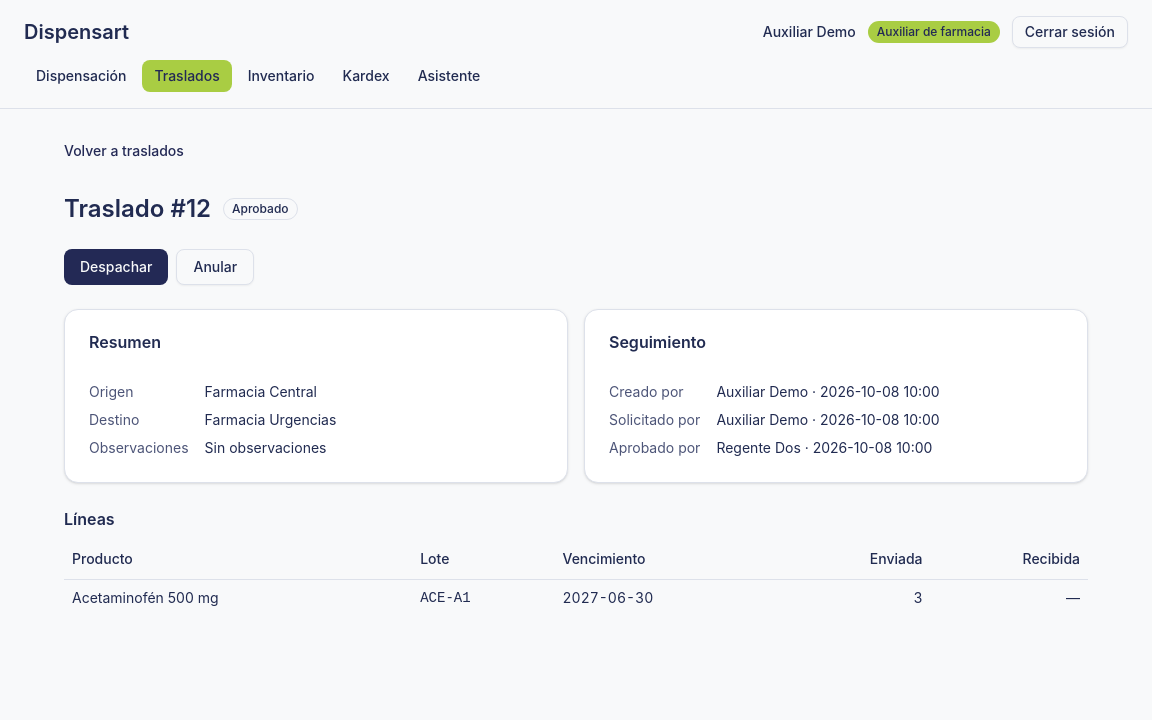
Scenario: Traslados › despacho confirmado › Despacho exitoso: aviso de origen en el diálogo y luego "En tránsito" con su nombre
Expected: the heading "Traslado #12" is shown, [64, 193, 211, 225]
Click the button "Despachar". click: (116,267)
box: [64, 249, 168, 285]
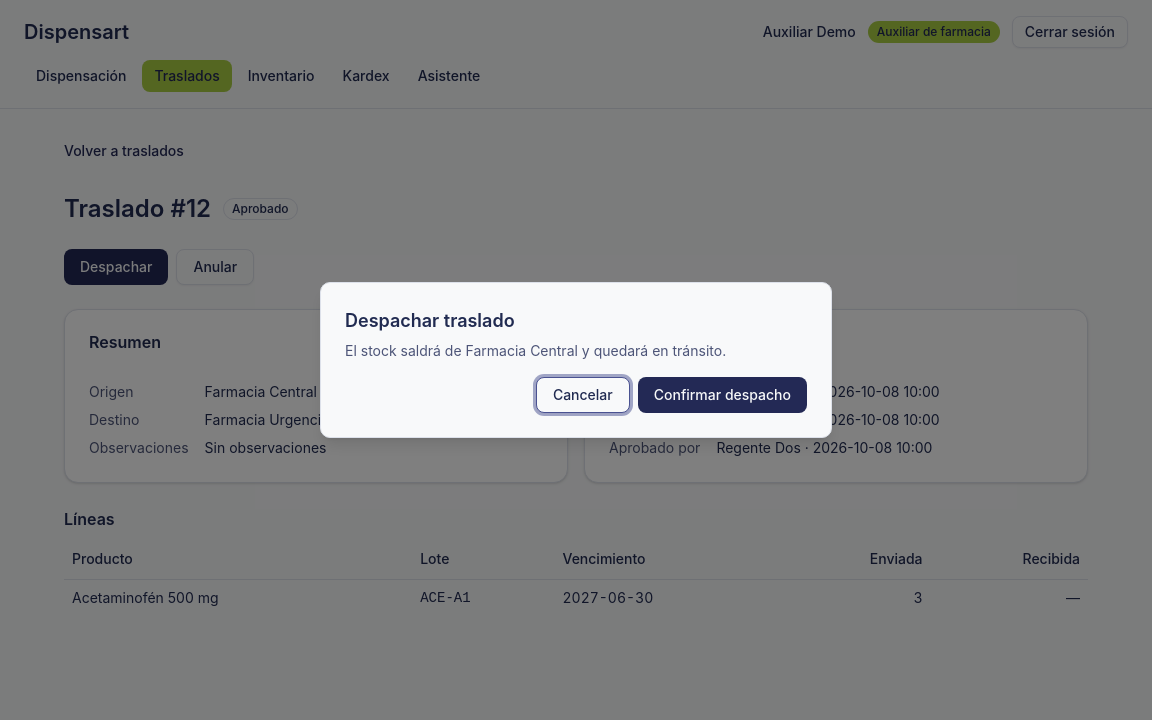
Result: the dialog "Despachar traslado" shows "El stock saldrá de Farmacia Central y quedará en tránsito." at [345, 342, 726, 359]
Click the button "Confirmar despacho". click: (722,395)
box: [638, 377, 807, 413]
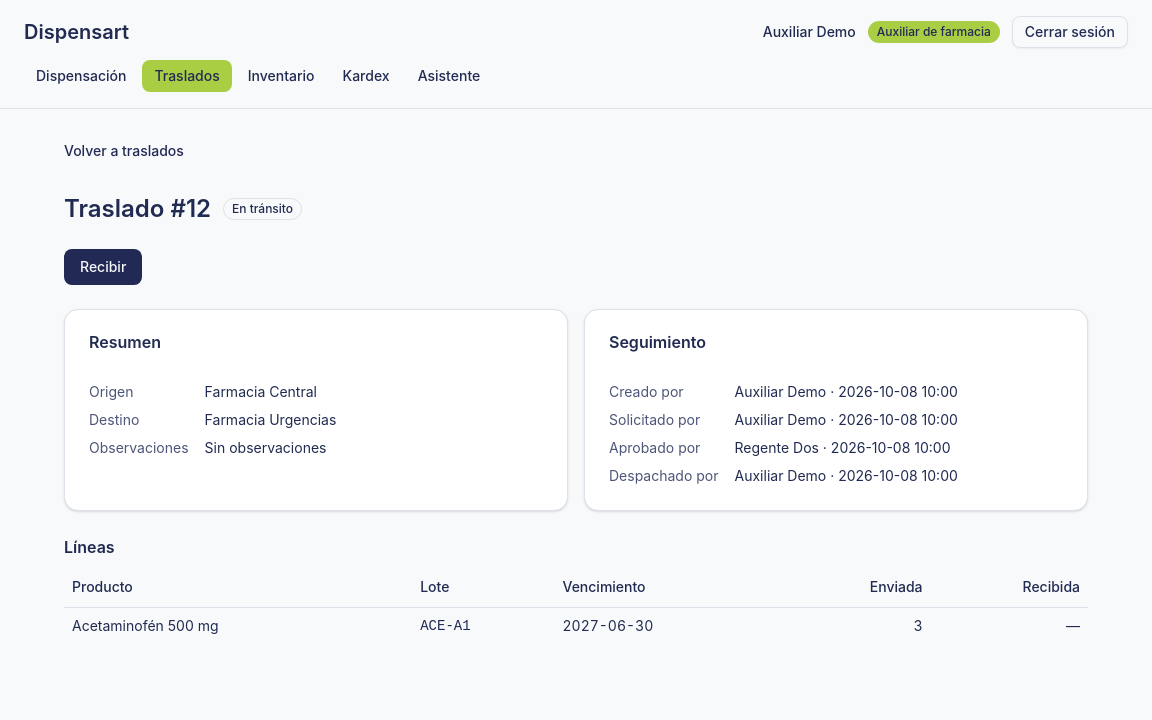
Result: the text "En tránsito" is shown at [223, 198, 302, 220]
Result: the dialog is gone
